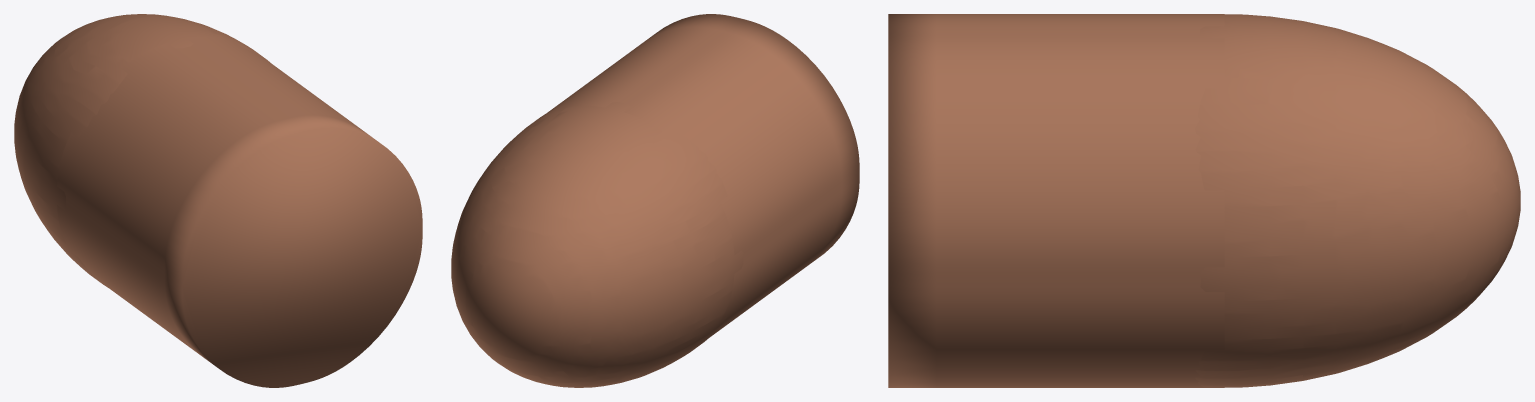
Rendered from bullet.dae.
3 views of the same model, side by side, from view 1: azimuth 30°, elevation 25°; view 2: azimuth 150°, elevation 25°; view 3: azimuth 270°, elevation 25° (orthographic). The views are drawn at different scales.
Visible parts, largest first — view 1: Surface, Mball.001; view 2: Mball.001, Surface; view 3: Surface, Mball.001.
Part boxes in pixels (box(x1,y1,x2,y2)): Surface: box(57, 36, 422, 387); Mball.001: box(14, 14, 270, 287); Mball.001: box(451, 102, 743, 387); Surface: box(547, 14, 859, 336); Surface: box(888, 14, 1224, 387); Mball.001: box(1195, 14, 1520, 387).
Bounding box in the file's own units: 2.7 × 4.58 × 2.71.
